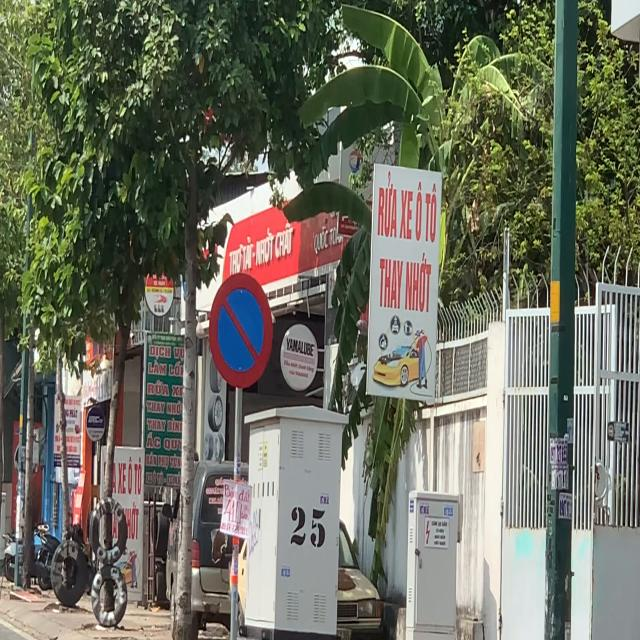Cam do: (208, 272, 274, 388)
